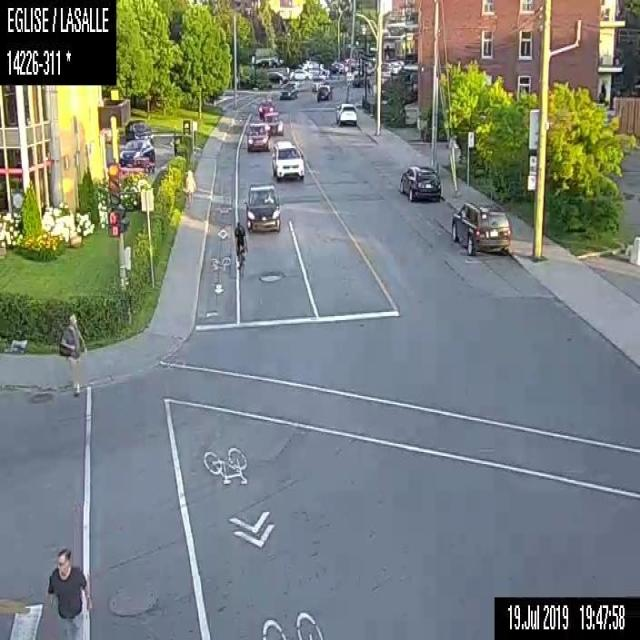cyclist: (231, 219, 248, 279)
pedestrian: (44, 548, 92, 639), (58, 313, 88, 395), (183, 168, 196, 204)
vehicle: (449, 200, 510, 255), (245, 180, 279, 236), (398, 163, 442, 201), (270, 139, 304, 180), (117, 136, 156, 167), (243, 116, 270, 151), (123, 116, 151, 138), (262, 110, 284, 135), (334, 102, 356, 126), (279, 81, 297, 99), (290, 66, 312, 80), (256, 98, 274, 115), (315, 83, 331, 101)
